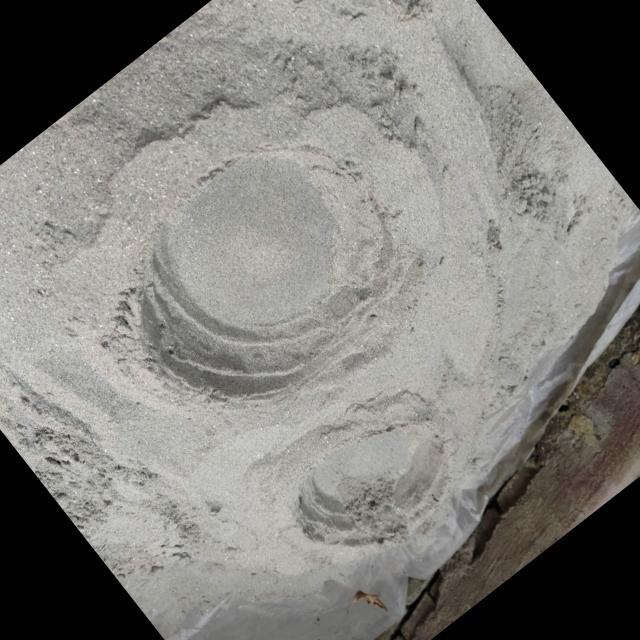C20: (134, 152, 394, 399), (292, 419, 450, 544)
